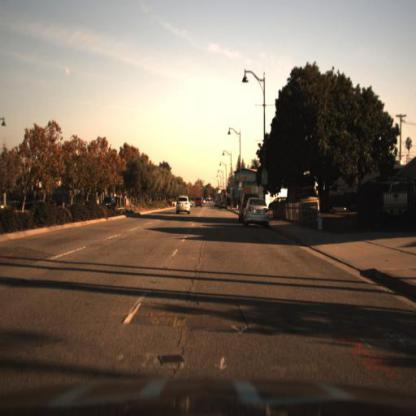car: (244, 199, 272, 231), (175, 194, 194, 221), (237, 193, 249, 228), (100, 194, 119, 215), (193, 192, 207, 210), (222, 200, 228, 211)
